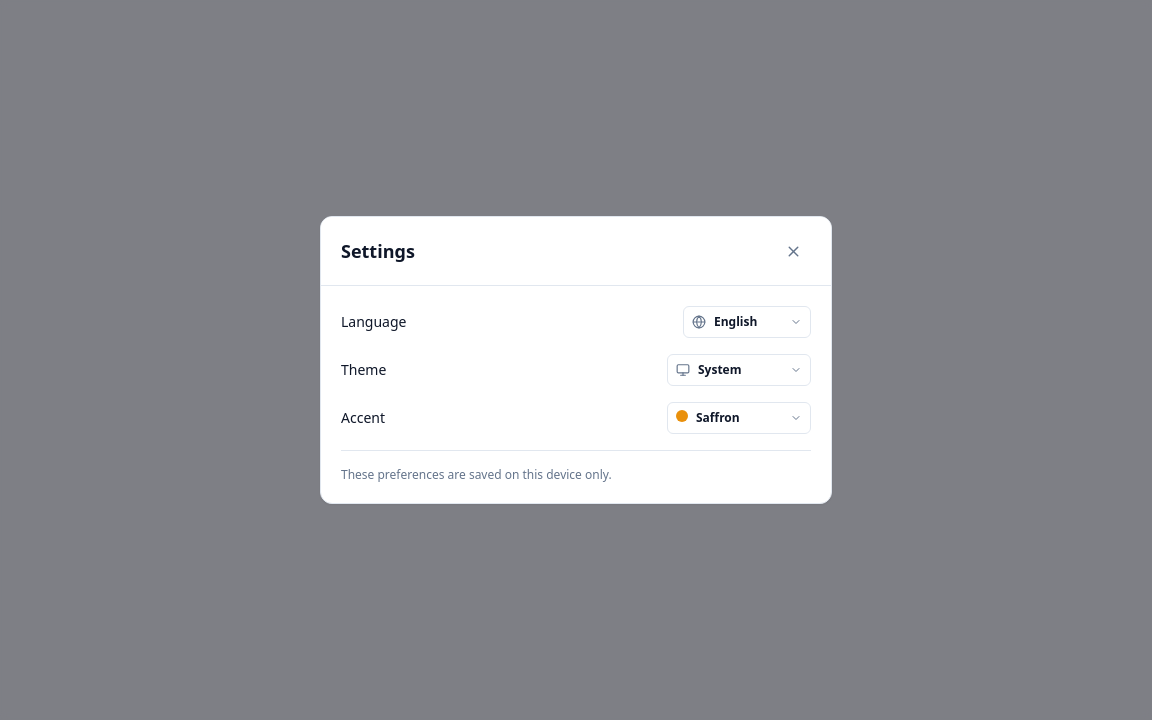
Test case: SettingsDialog › closes only the open dropdown on Escape, leaving the dialog open
Click the button with aria-label "Accent: Saffron": {"x": 739, "y": 418} [667,402,811,434]
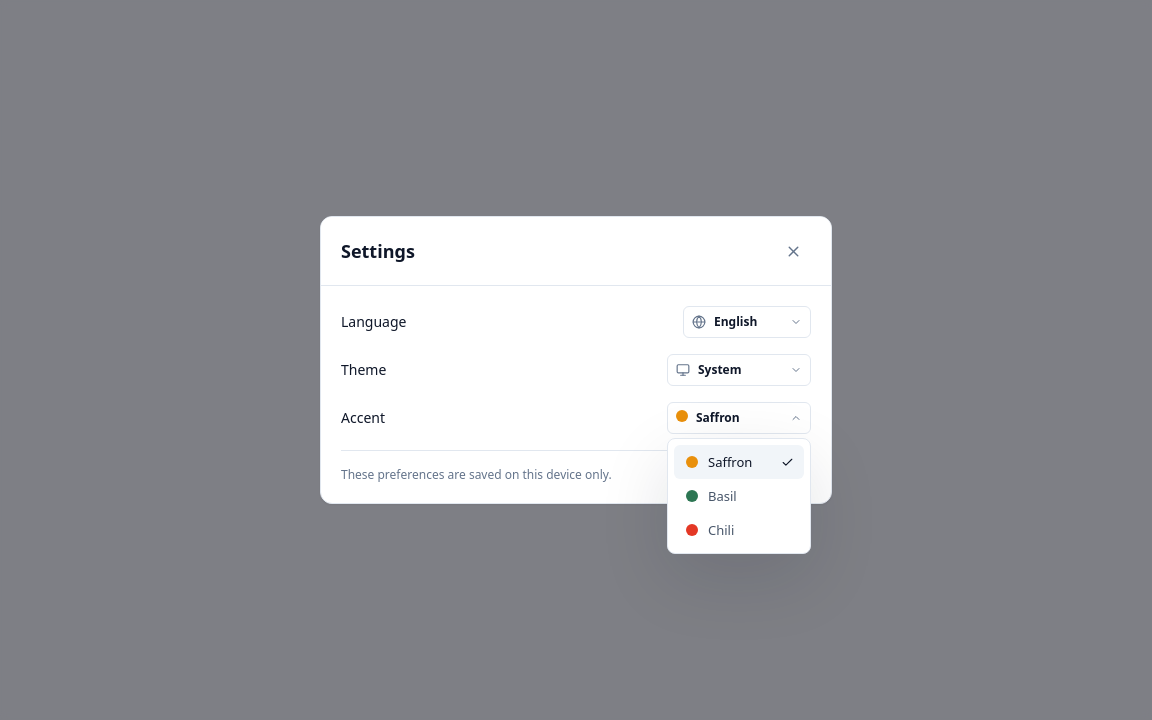
Check: the list is shown
Press Escape in the list, box [674,445,804,547]
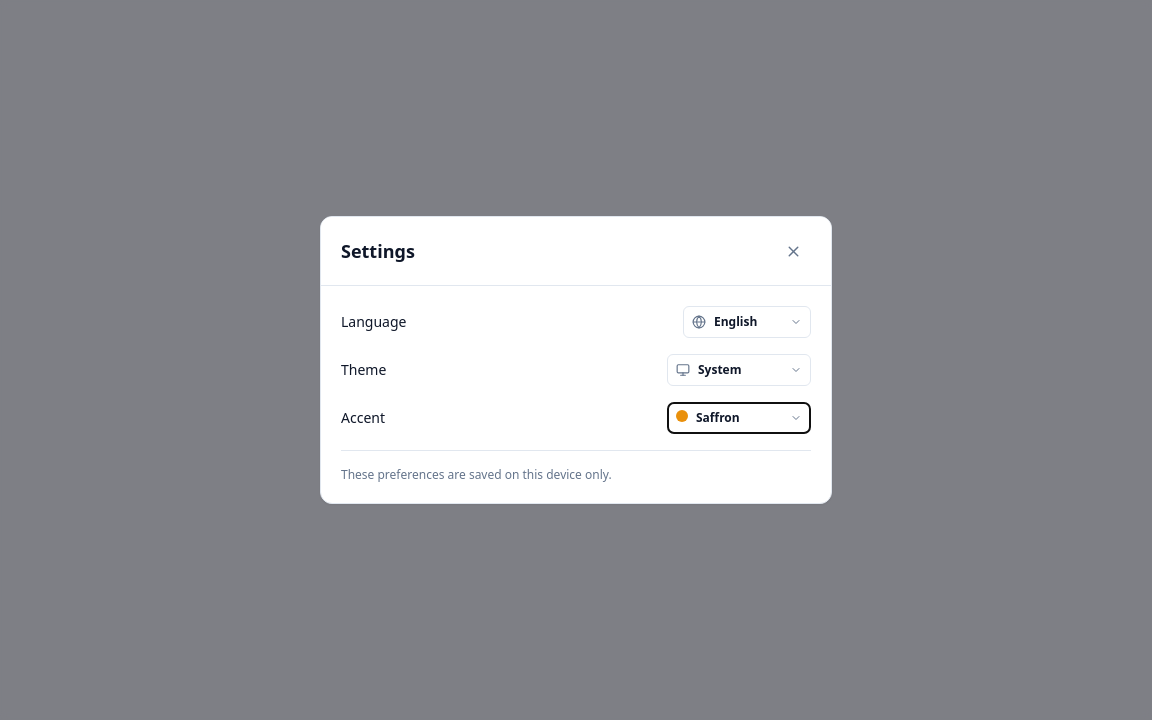
Check: the list is gone
